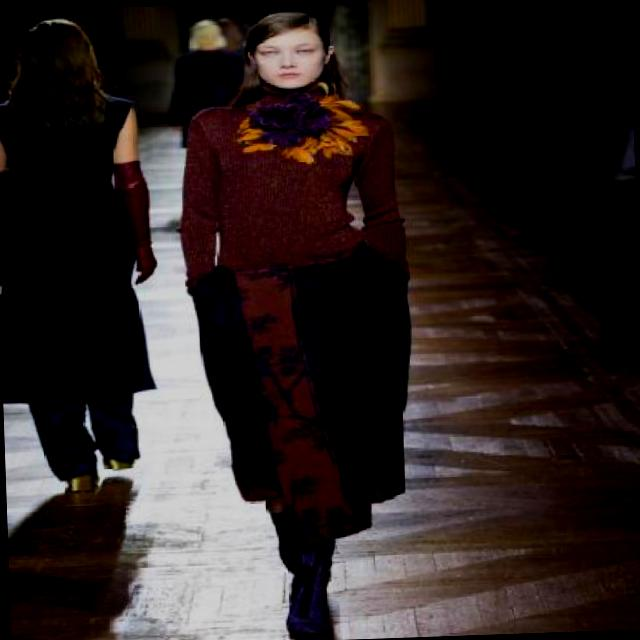Person: (152, 0, 442, 640)
